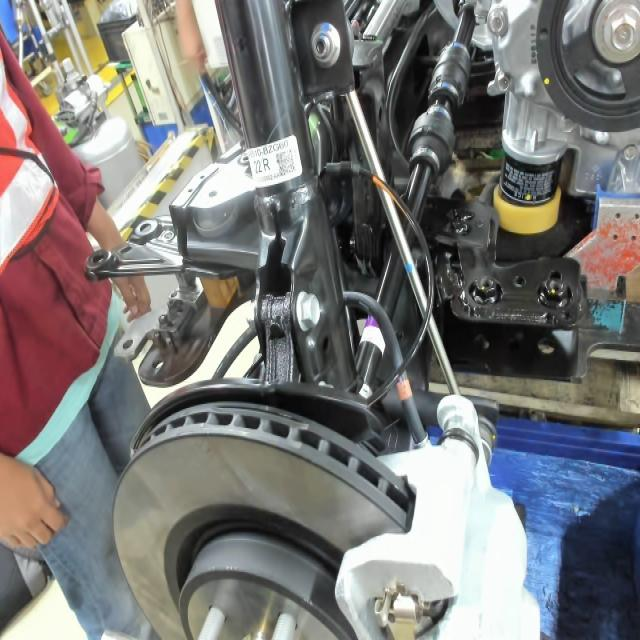Absorber RH-22: (252, 143, 294, 189)
Disc-HT: (164, 491, 361, 640)
Drive Shaft-UG: (357, 309, 391, 355)
